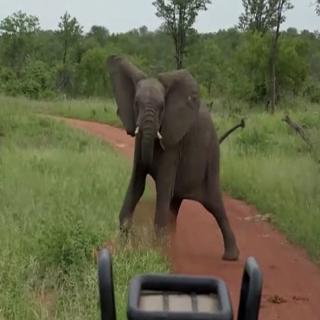Elephant: (101, 51, 251, 264)
